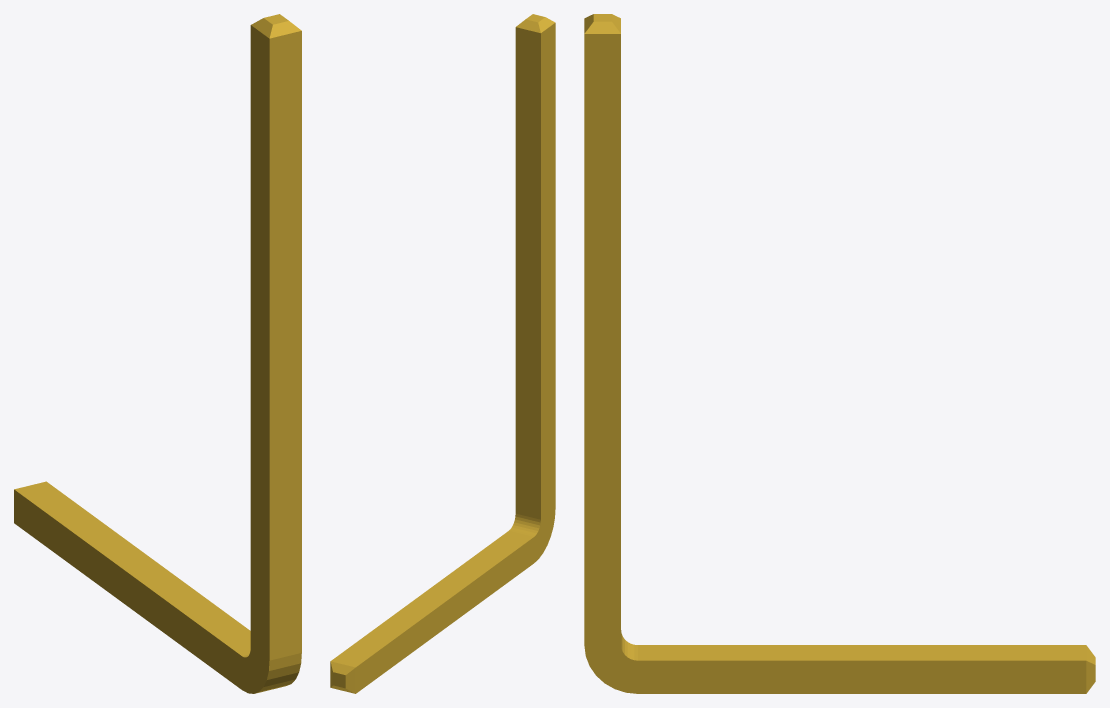
3 views of the same model, side by side, from view 1: azimuth 30°, elevation 25°; view 2: azimuth 150°, elevation 25°; view 3: azimuth 270°, elevation 25° (orthographic). The views are drawn at different scales.
Parts seen in each view (by area): view 1: BH-16R; view 2: BH-16R; view 3: BH-16R.
Part boxes in pixels (x1,y1,x2,y2): BH-16R: [14, 14, 301, 693]; BH-16R: [330, 14, 555, 693]; BH-16R: [584, 14, 1095, 693].
Bounding box in the file's own units: 0.00111 × 0.0223 × 0.0155.
